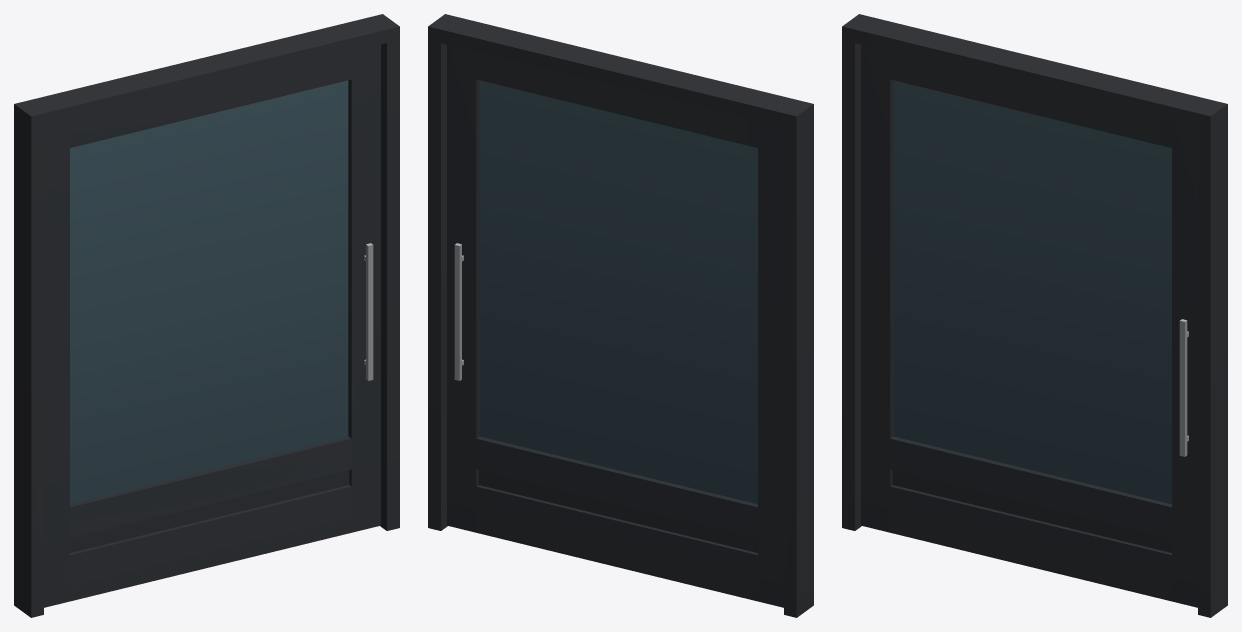
Rendered from door.painted.shop.glb.
3 renders of one model, left to right at view 1: azimuth 30°, elevation 25°; view 2: azimuth 150°, elevation 25°; view 3: azimuth 330°, elevation 25°, orthographic.
Parts seen in each view (by area): view 1: door_painted_shop; view 2: door_painted_shop; view 3: door_painted_shop.
Boxes of the visible parts, bbox=[...] form: door_painted_shop: bbox=[14, 14, 399, 617]; door_painted_shop: bbox=[428, 14, 813, 617]; door_painted_shop: bbox=[842, 14, 1227, 617].
Size of what is drawn, in the model's own units: 2 by 2.6 by 0.16.
